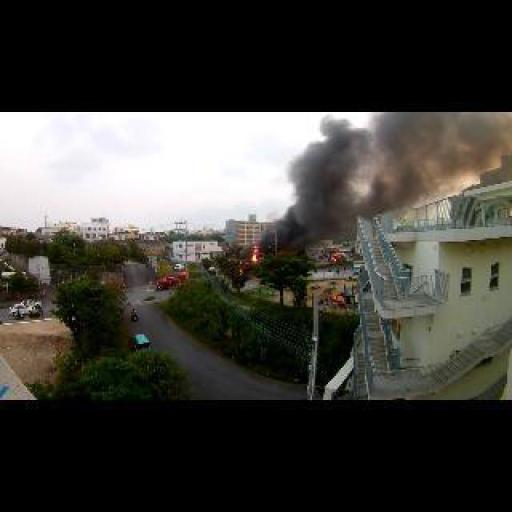smoke: (360, 112, 510, 206), (268, 114, 358, 259), (250, 246, 259, 261)
